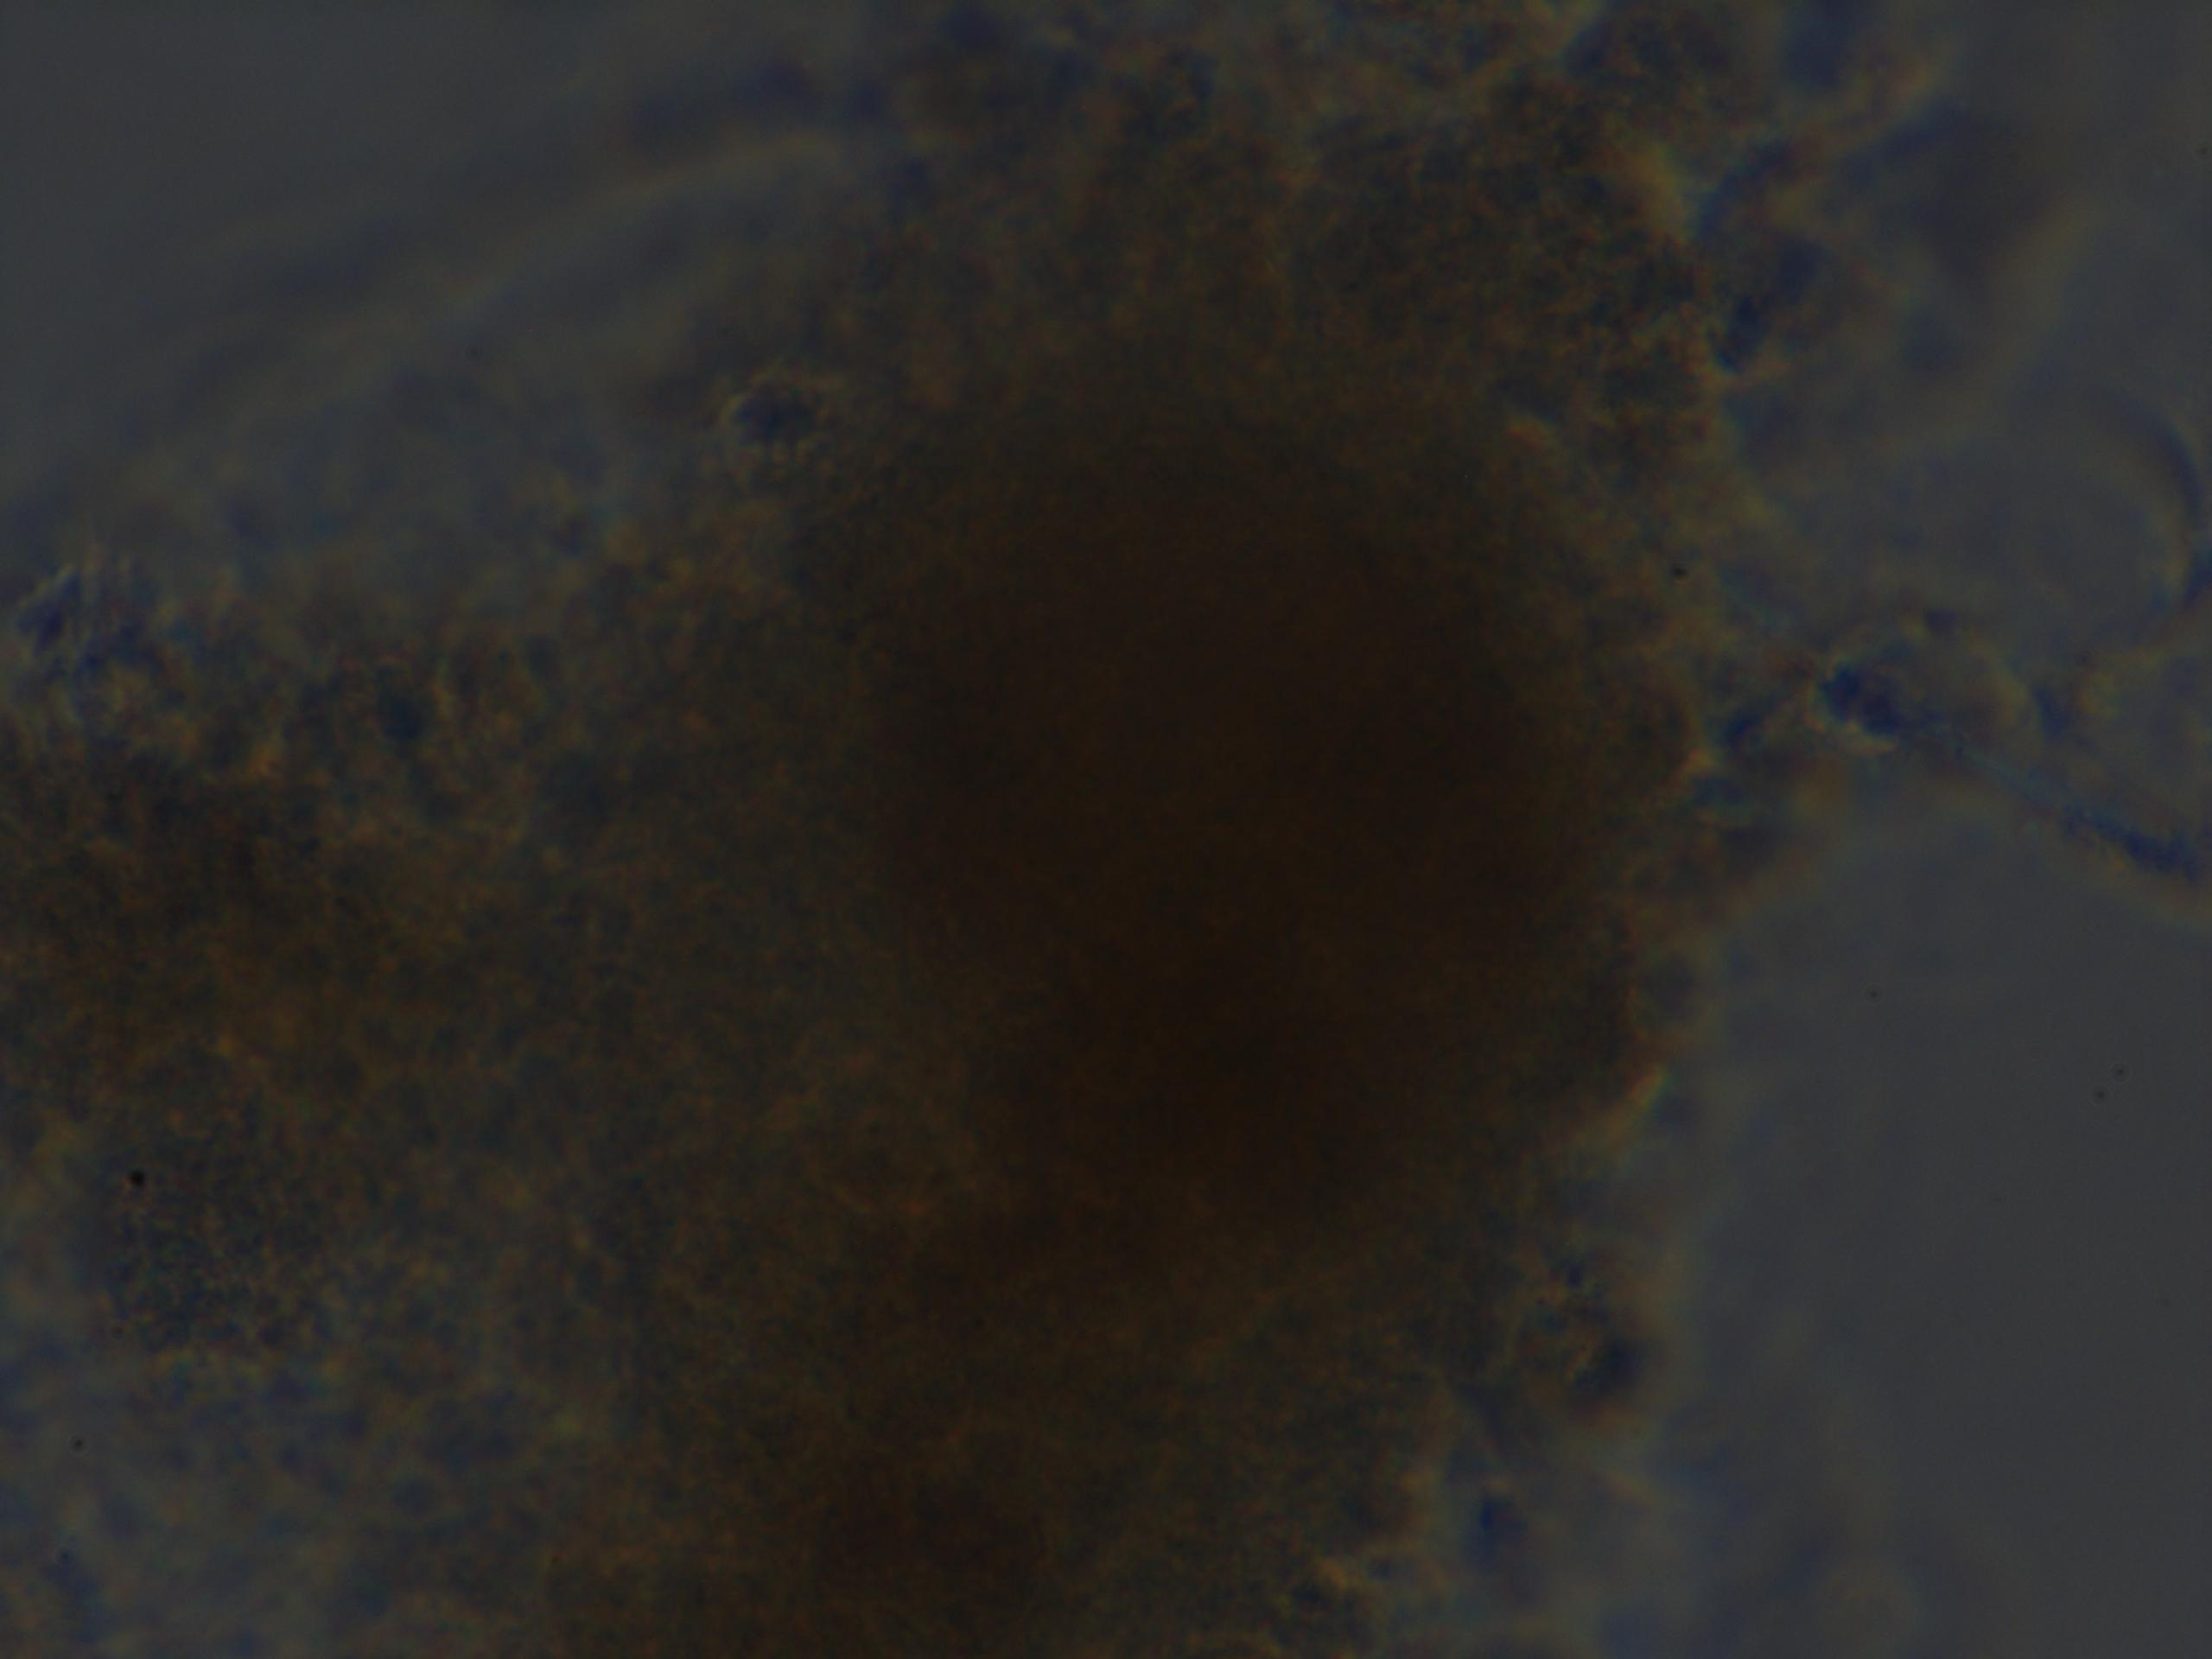filament: (1737, 584, 2203, 908)
